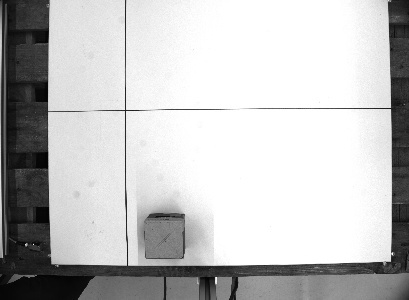b7: (140, 210, 187, 260)
